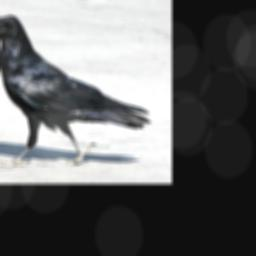Crow: (0, 15, 152, 168)
